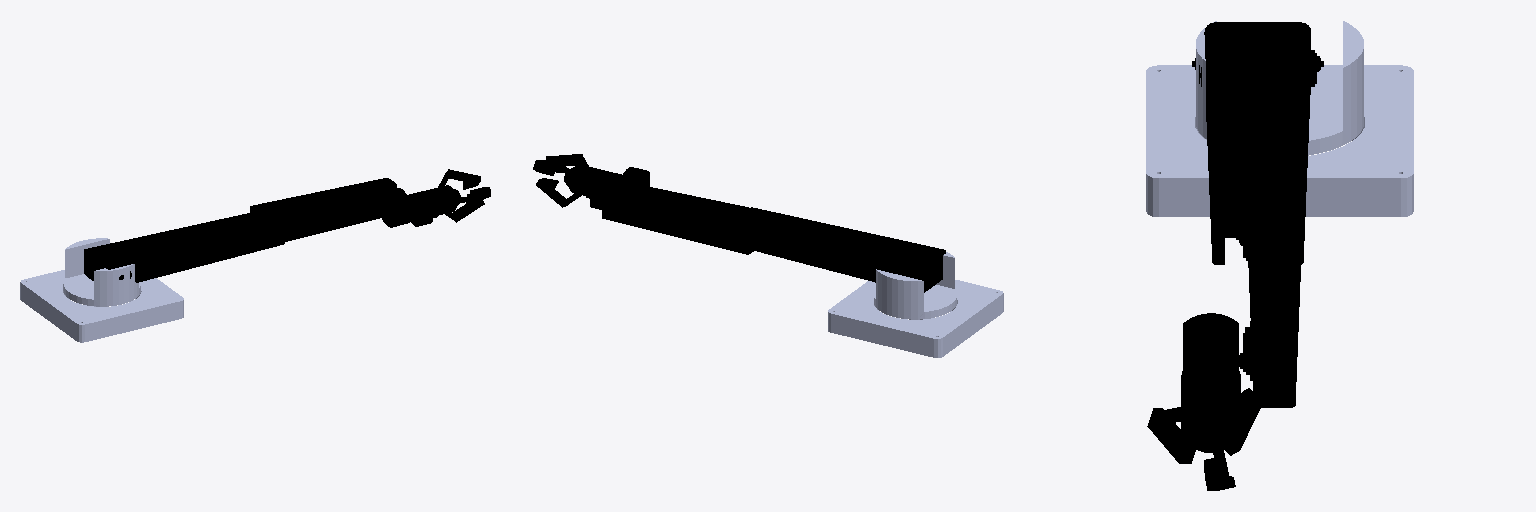
robot.urdf — robo_arm_3:
<?xml version="1.0" encoding="utf-8"?>

<robot
  name="robo_arm_3">
  <link
    name="base_link">
    <inertial>
      <origin
        xyz="-0.00016684 -1.249E-16 0.019993"
        rpy="0 0 0" />
      <mass
        value="1.7179" />
      <inertia
        ixx="0.011863"
        ixy="-2.4892E-13"
        ixz="-1.5379E-07"
        iyy="0.011867"
        iyz="-4.7099E-20"
        izz="0.023274" />
    </inertial>
    <visual>
      <origin
        xyz="0 0 0"
        rpy="0 0 0" />
      <geometry>
        <mesh
          filename="package://robo_arm_3/meshes/base_link.STL" />
      </geometry>
      <material
        name="">
        <color
          rgba="0.79216 0.81961 0.93333 0.5" />
      </material>
    </visual>
    <collision>
      <origin
        xyz="0 0 0"
        rpy="0 0 0" />
      <geometry>
        <mesh
          filename="package://robo_arm_3/meshes/base_link.STL" />
      </geometry>
    </collision>
  </link>
  <link
    name="shoulder">
    <inertial>
      <origin
        xyz="2.7756E-17 -1.3878E-17 0.023047"
        rpy="0 0 0" />
      <mass
        value="0.48097" />
      <inertia
        ixx="0.0015602"
        ixy="3.7227E-19"
        ixz="-1.6832E-21"
        iyy="0.00081984"
        iyz="1.9916E-19"
        izz="0.0018718" />
    </inertial>
    <visual>
      <origin
        xyz="0 0 0"
        rpy="0 0 0" />
      <geometry>
        <mesh
          filename="package://robo_arm_3/meshes/shoulder.STL" />
      </geometry>
      <material
        name="">
        <color
          rgba="0.79216 0.81961 0.93333 0.5" />
      </material>
    </visual>
    <collision>
      <origin
        xyz="0 0 0"
        rpy="0 0 0" />
      <geometry>
        <mesh
          filename="package://robo_arm_3/meshes/shoulder.STL" />
      </geometry>
    </collision>
  </link>
  <joint
    name="base_shoulder"
    type="revolute">
    <origin
      xyz="0 0 0.04"
      rpy="0 0 0" />
    <parent
      link="base_link" />
    <child
      link="shoulder" />
    <axis
      xyz="0 0 1" />
    <limit
      lower="0"
      upper="3.14"
      effort="1000"
      velocity="10" />
  </joint>
  <link
    name="upper_arm">
    <inertial>
      <origin
        xyz="0.1501 -0.00030662 0.020598"
        rpy="0 0 0" />
      <mass
        value="1.8816" />
      <inertia
        ixx="0.0017897"
        ixy="6.4956E-05"
        ixz="1.0733E-06"
        iyy="0.022908"
        iyz="-3.3014E-09"
        izz="0.022012" />
    </inertial>
    <visual>
      <origin
        xyz="0 0 0"
        rpy="0 0 0" />
      <geometry>
        <mesh
          filename="package://robo_arm_3/meshes/upper_arm.STL" />
      </geometry>
      <material
        name="">
        <color
          rgba="0 0 0 0.5" />
      </material>
    </visual>
    <collision>
      <origin
        xyz="0 0 0"
        rpy="0 0 0" />
      <geometry>
        <mesh
          filename="package://robo_arm_3/meshes/upper_arm.STL" />
      </geometry>
    </collision>
  </link>
  <joint
    name="shoulder_upperArm"
    type="revolute">
    <origin
      xyz="0 0 0.06"
      rpy="1.5708 0 0" />
    <parent
      link="shoulder" />
    <child
      link="upper_arm" />
    <axis
      xyz="0 0 1" />
    <limit
      lower="0"
      upper="3.14"
      effort="1000"
      velocity="10" />
  </joint>
  <link
    name="lower_arm">
    <inertial>
      <origin
        xyz="0.11955 -0.0016636 0.0047581"
        rpy="0 0 0" />
      <mass
        value="1.0332" />
      <inertia
        ixx="0.00065166"
        ixy="0.00011481"
        ixz="-5.348E-06"
        iyy="0.0081953"
        iyz="8.1377E-08"
        izz="0.0085081" />
    </inertial>
    <visual>
      <origin
        xyz="0 0 0"
        rpy="0 0 0" />
      <geometry>
        <mesh
          filename="package://robo_arm_3/meshes/lower_arm.STL" />
      </geometry>
      <material
        name="">
        <color
          rgba="0 0 0 0.5" />
      </material>
    </visual>
    <collision>
      <origin
        xyz="0 0 0"
        rpy="0 0 0" />
      <geometry>
        <mesh
          filename="package://robo_arm_3/meshes/lower_arm.STL" />
      </geometry>
    </collision>
  </link>
  <joint
    name="upperArm_lowerArm"
    type="revolute">
    <origin
      xyz="0.38348 0 0"
      rpy="0 0 0" />
    <parent
      link="upper_arm" />
    <child
      link="lower_arm" />
    <axis
      xyz="0 0 1" />
    <limit
      lower="-2.094"
      upper="0"
      effort="1000"
      velocity="10" />
  </joint>
  <link
    name="wrist">
    <inertial>
      <origin
        xyz="-0.0061465 0.0021995 0.053642"
        rpy="0 0 0" />
      <mass
        value="0.12761" />
      <inertia
        ixx="7.8389E-05"
        ixy="3.0598E-07"
        ixz="-3.2456E-07"
        iyy="3.8237E-05"
        iyz="1.5129E-07"
        izz="6.1611E-05" />
    </inertial>
    <visual>
      <origin
        xyz="0 0 0"
        rpy="0 0 0" />
      <geometry>
        <mesh
          filename="package://robo_arm_3/meshes/wrist.STL" />
      </geometry>
      <material
        name="">
        <color
          rgba="0 0 0 0.5" />
      </material>
    </visual>
    <collision>
      <origin
        xyz="0 0 0"
        rpy="0 0 0" />
      <geometry>
        <mesh
          filename="package://robo_arm_3/meshes/wrist.STL" />
      </geometry>
    </collision>
  </link>
  <joint
    name="lowerArm_wrist"
    type="revolute">
    <origin
      xyz="0.27314 0 0"
      rpy="0 0 0" />
    <parent
      link="lower_arm" />
    <child
      link="wrist" />
    <axis
      xyz="0 0 1" />
    <limit
      lower="-2.094"
      upper="0"
      effort="1000"
      velocity="10" />
  </joint>
  <link
    name="gripper_1">
    <inertial>
      <origin
        xyz="-0.0012049 -0.0005436 0.10591"
        rpy="0 0 0" />
      <mass
        value="0.26872" />
      <inertia
        ixx="0.00028233"
        ixy="4.2706E-07"
        ixz="2.0985E-06"
        iyy="0.00028381"
        iyz="5.7371E-07"
        izz="9.3091E-05" />
    </inertial>
    <visual>
      <origin
        xyz="0 0 0"
        rpy="0 0 0" />
      <geometry>
        <mesh
          filename="package://robo_arm_3/meshes/gripper_1.STL" />
      </geometry>
      <material
        name="">
        <color
          rgba="0 0 0 0.5" />
      </material>
    </visual>
    <collision>
      <origin
        xyz="0 0 0"
        rpy="0 0 0" />
      <geometry>
        <mesh
          filename="package://robo_arm_3/meshes/gripper_1.STL" />
      </geometry>
    </collision>
  </link>
  <joint
    name="wrist_gripper_1"
    type="revolute">
    <origin
      xyz="-0.019204 -0.0099756 0.064416"
      rpy="1.5708 0 1.5708" />
    <parent
      link="wrist" />
    <child
      link="gripper_1" />
    <axis
      xyz="0 0 -1" />
    <limit
      lower="0"
      upper="3.14"
      effort="1000"
      velocity="10" />
  </joint>
<gazebo>
  <plugin name= "gazebo_ros_control" filename = "libgazebo_ros_control.so"/>
  <robotSimType>gazebo_ros_control/DefaultRobotHWSim</robotSimType>
</gazebo>  
</robot>

--- Facts derived from the render (not from the file) ---
Views: 3 orthographic renders of the robot side by side, from view 1: azimuth 30°, elevation 25°; view 2: azimuth 150°, elevation 25°; view 3: azimuth 270°, elevation 25°.
Model robo_arm_3 with 6 links and 5 joints (5 revolute), rooted at base_link, posed every joint at zero.
Links seen in each view (by area): view 1: upper_arm, base_link, lower_arm, shoulder, gripper_1, wrist; view 2: upper_arm, base_link, lower_arm, shoulder, gripper_1; view 3: base_link, upper_arm, lower_arm, gripper_1, shoulder, wrist.
Link boxes in pixels (box(x1,y1,x2,y2)): upper_arm: box(84, 213, 284, 282); base_link: box(20, 270, 183, 342); lower_arm: box(250, 178, 396, 241); shoulder: box(63, 238, 140, 306); gripper_1: box(407, 169, 490, 226); wrist: box(381, 181, 408, 227); upper_arm: box(730, 207, 945, 292); base_link: box(828, 280, 1003, 357); lower_arm: box(602, 179, 759, 254); shoulder: box(874, 252, 956, 319); gripper_1: box(533, 154, 621, 209); base_link: box(1146, 65, 1413, 216); upper_arm: box(1192, 22, 1323, 264); lower_arm: box(1236, 186, 1301, 407); gripper_1: box(1147, 339, 1263, 490); shoulder: box(1196, 21, 1363, 155); wrist: box(1183, 313, 1264, 380).
Size in the robot's own frame: 0.9843 by 0.25 by 0.1406 metres.
6 mesh visuals loaded from 6 distinct referenced files (6 binary STL).